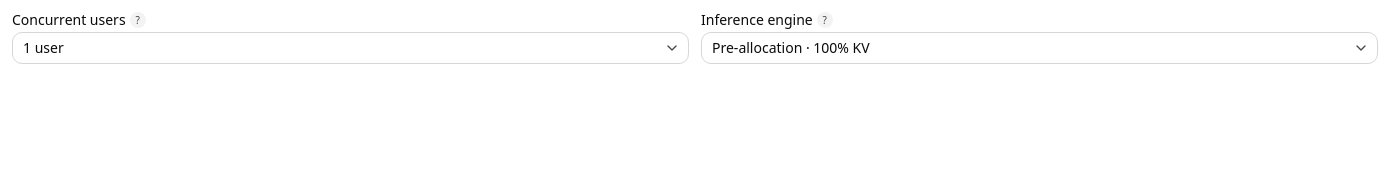
Test: ConcurrentUsersInput — engine dropdown filters by quant family › GGUF (q4_k_m) shows only the Pre-allocation preset + Custom
The width and height of the screenshot is (1390, 172).
What coordinates should you click on to do the following:
click the dropdown with test id "engine-trigger"
I would click on:
 (791, 48)
Its box is 701,32 -> 1378,64.
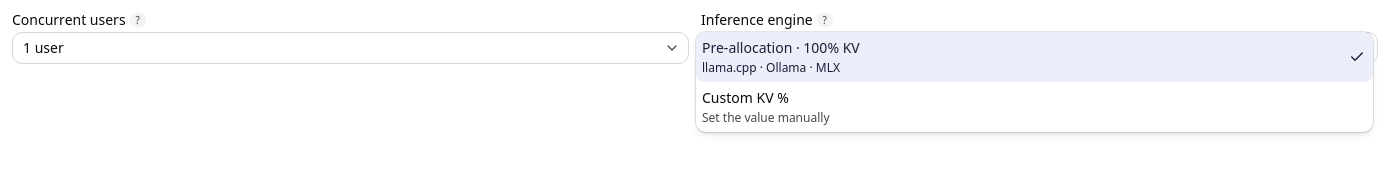
Expected: the text "Pre-allocation · 100% KV" is shown, 702,38 -> 860,58
Expected: the text "Custom KV %" is shown, 702,88 -> 789,108
